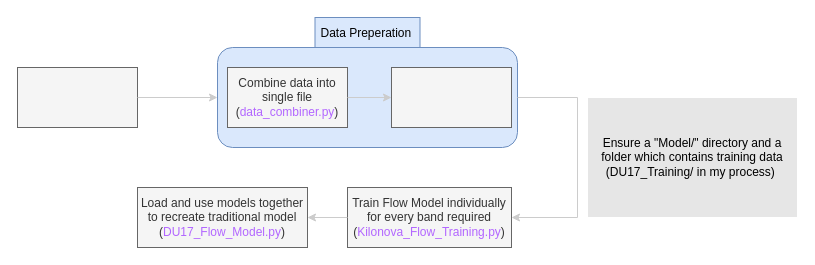
This 815x265 diagram has some shape labels left out. The shapes that lost their labels are listed below. From the top down, each one's centre as x and y in pixels, then its label:
the point at 77,97: Data Created using traditional model
the point at 451,97: Remove 'nan' values ( data_unnaner.py )
